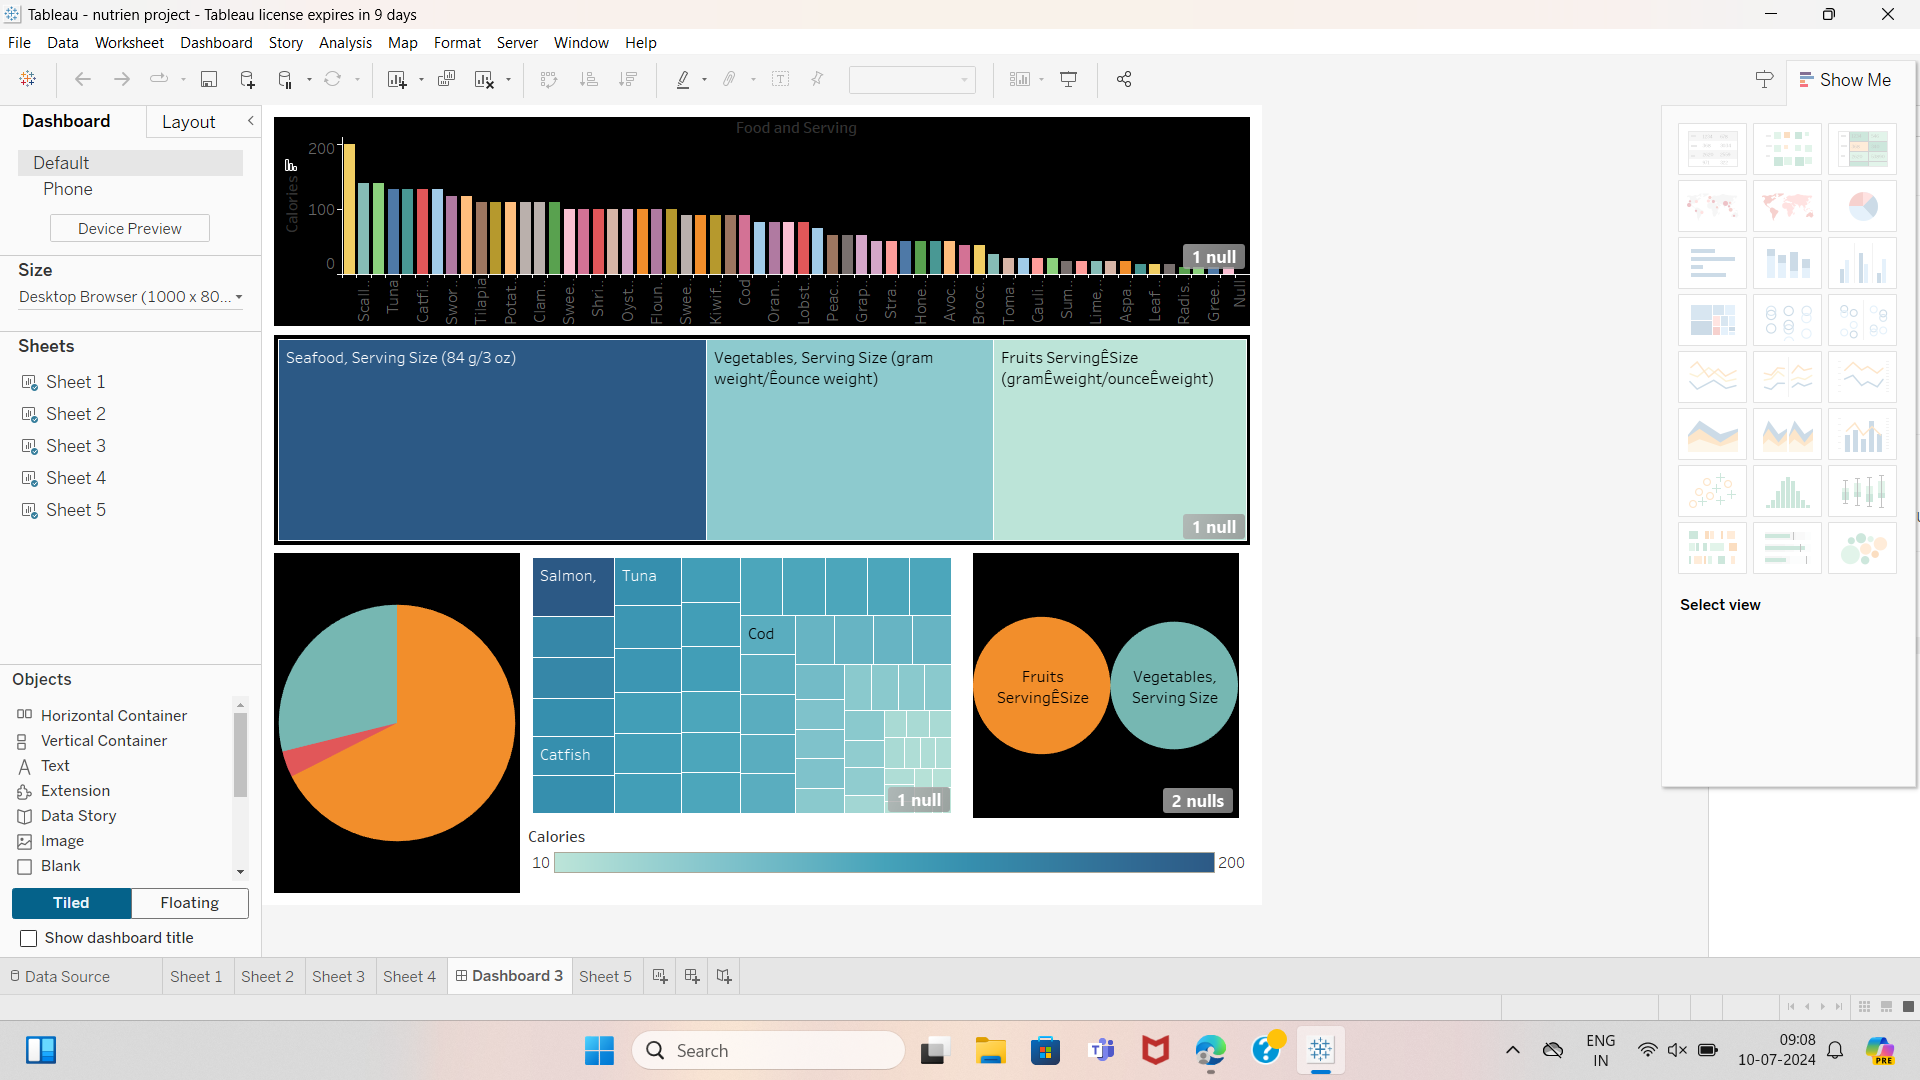

The page's visual inventory and layout, read from the dashboard file:
{"tool":"tableau","page":{"name":"Dashboard 3","canvas":[1000,800],"ordinal":0},"visuals":[{"type":"worksheet","title":"Sheet 2","mark":"Automatic","rows":["Calories"],"cols":["Food and Serving"],"box":[8,8,984,218]},{"type":"worksheet","title":"Sheet 1","mark":"Automatic","box":[8,226,984,218]},{"type":"worksheet","title":"Sheet 4","mark":"Pie","box":[8,444,254.3,348]},{"type":"worksheet","title":"Sheet 3","mark":"Automatic","box":[262.3,444,444.7,273]},{"type":"worksheet","title":"Sheet 5","mark":"Circle","box":[707,444,285,273]},{"type":"legend","title":"Sheet 3","param":"[federated.0ptbie917exl9p16grh141p07p7w].[sum:Calories:qk]","box":[262.3,717,729.7,75]}]}

Visuals, with their boxes on the page's 1000x800 design canvas (x1, y1, x2, y2). These are canvas units, not pixel positions in the 1920x1080 screenshot, which may show the page scaled, cropped or inside an application window:
"Sheet 2" worksheet: 8, 8, 992, 226
"Sheet 1" worksheet: 8, 226, 992, 444
"Sheet 4" worksheet (Pie marks): 8, 444, 262, 792
"Sheet 3" worksheet: 262, 444, 707, 717
"Sheet 5" worksheet (Circle marks): 707, 444, 992, 717
"Sheet 3" legend: 262, 717, 992, 792
